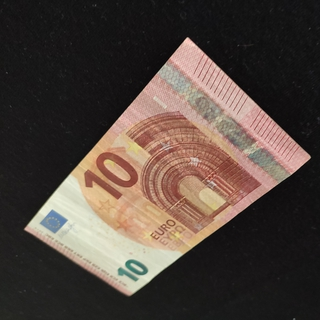10EUROFront: (23, 35, 311, 297)
